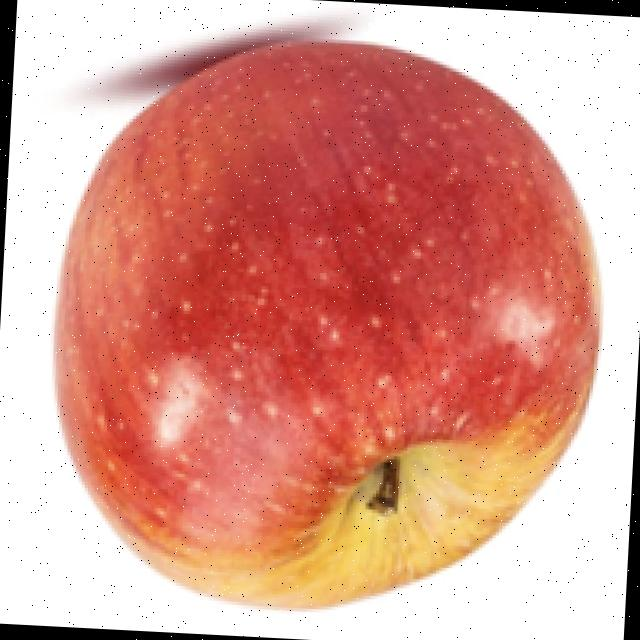apple: (47, 6, 608, 617)
